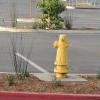a fire hydrant: (53, 33, 72, 77)
